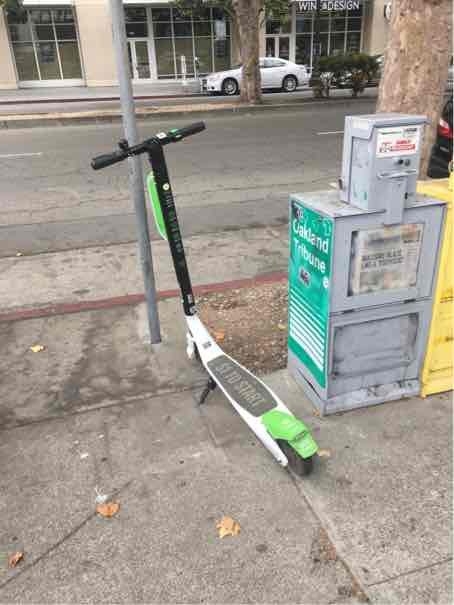scooter: (72, 113, 338, 480)
